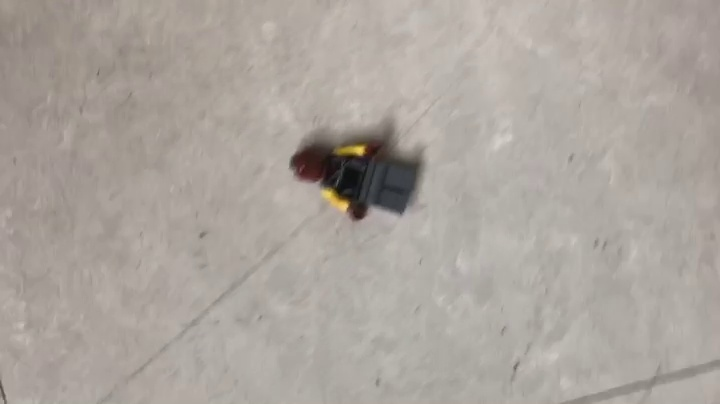people: (287, 142, 421, 223)
